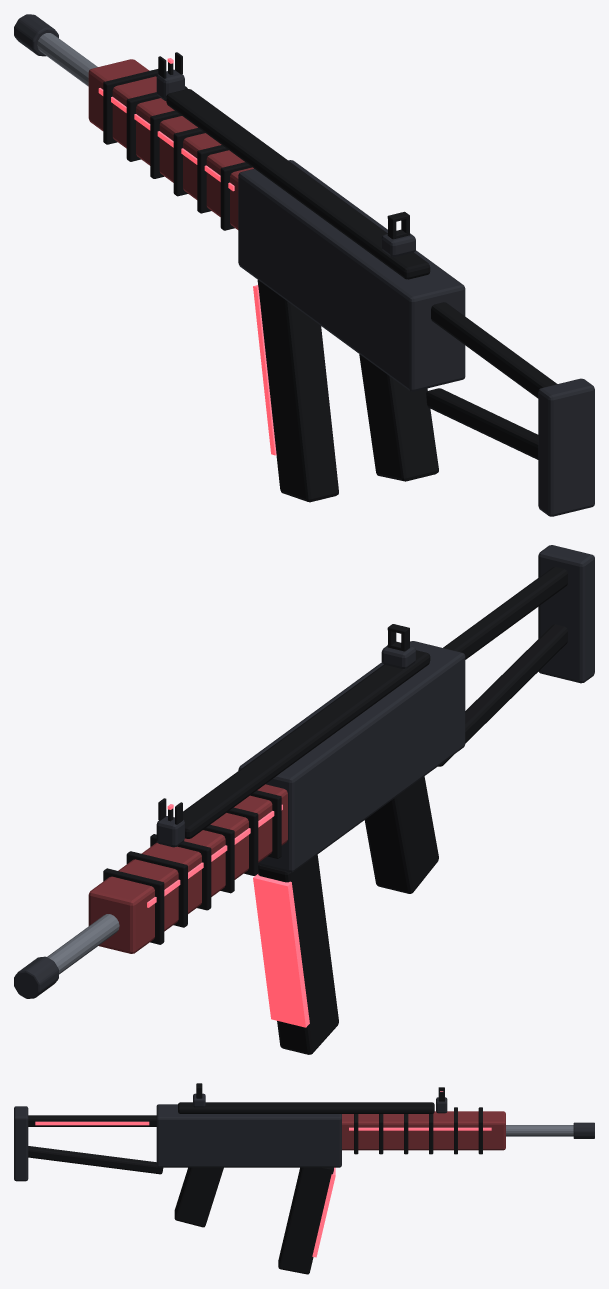
Rendered from psmg.glb.
3 renders of one model, top to bottom at view 1: azimuth 30°, elevation 25°; view 2: azimuth 150°, elevation 25°; view 3: azimuth 270°, elevation 25°, orthographic. The views are drawn at different scales.
Visible parts, largest first — view 1: Body, Magazine, IronSights; view 2: Body, Magazine, IronSights; view 3: Body, Magazine, IronSights.
Boxes of the visible parts, box(x1,y1,x2,y2) form: Body: box(14, 14, 594, 516); Magazine: box(253, 280, 338, 502); IronSights: box(156, 52, 415, 256); Body: box(14, 545, 594, 998); Magazine: box(253, 854, 338, 1054); IronSights: box(156, 624, 415, 847); Body: box(14, 1102, 594, 1227); Magazine: box(278, 1167, 335, 1274); IronSights: box(193, 1083, 447, 1113).
Bounding box in the file's own units: 0.05 × 0.2872 × 0.815.
